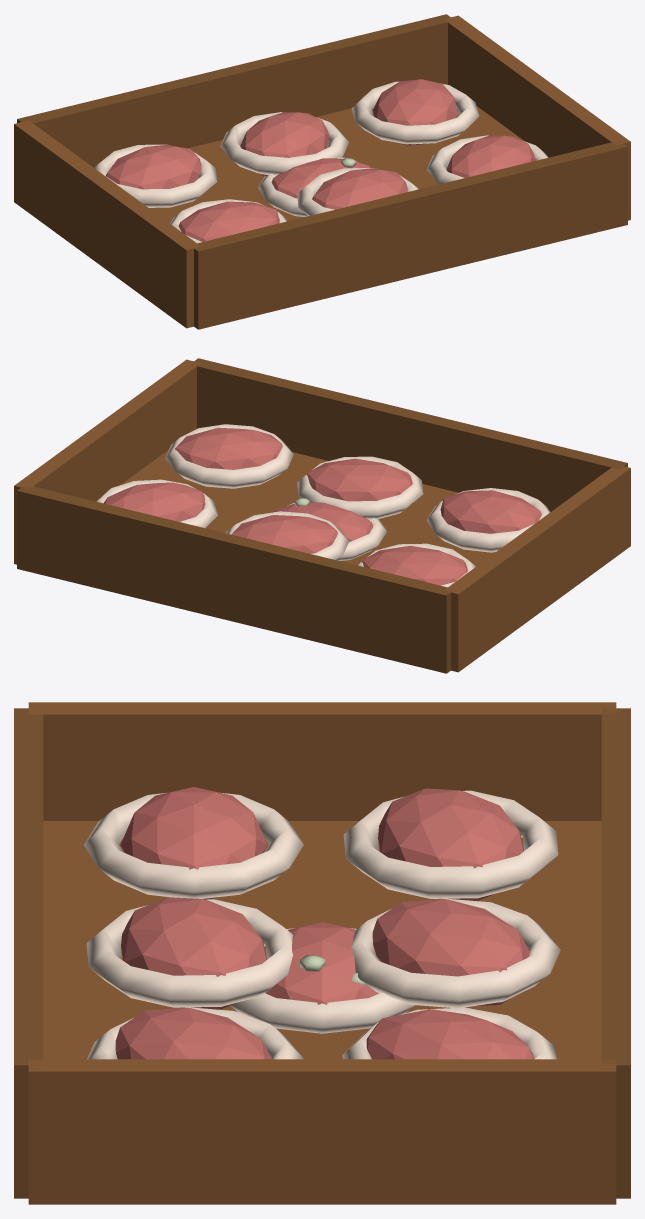
Rendered from Meat_Rabbit.fbx.
3 renders of one model, top to bottom at view 1: azimuth 30°, elevation 25°; view 2: azimuth 150°, elevation 25°; view 3: azimuth 270°, elevation 25°, orthographic. The views are drawn at different scales.
Visible parts, largest first — view 1: Meat_Rabbit__Stack, Meat_Rabbit; view 2: Meat_Rabbit__Stack, Meat_Rabbit; view 3: Meat_Rabbit__Stack, Meat_Rabbit.
Part boxes in pixels (x1=…): Meat_Rabbit__Stack: x1=14, y1=14, x2=630, y2=329; Meat_Rabbit: x1=258, y1=157, x2=370, y2=216; Meat_Rabbit__Stack: x1=14, y1=358, x2=630, y2=673; Meat_Rabbit: x1=274, y1=502, x2=386, y2=560; Meat_Rabbit__Stack: x1=14, y1=702, x2=630, y2=1204; Meat_Rabbit: x1=230, y1=922, x2=415, y2=1033.
Size of the model in its own units: 0.238 by 0.04 by 0.168.
